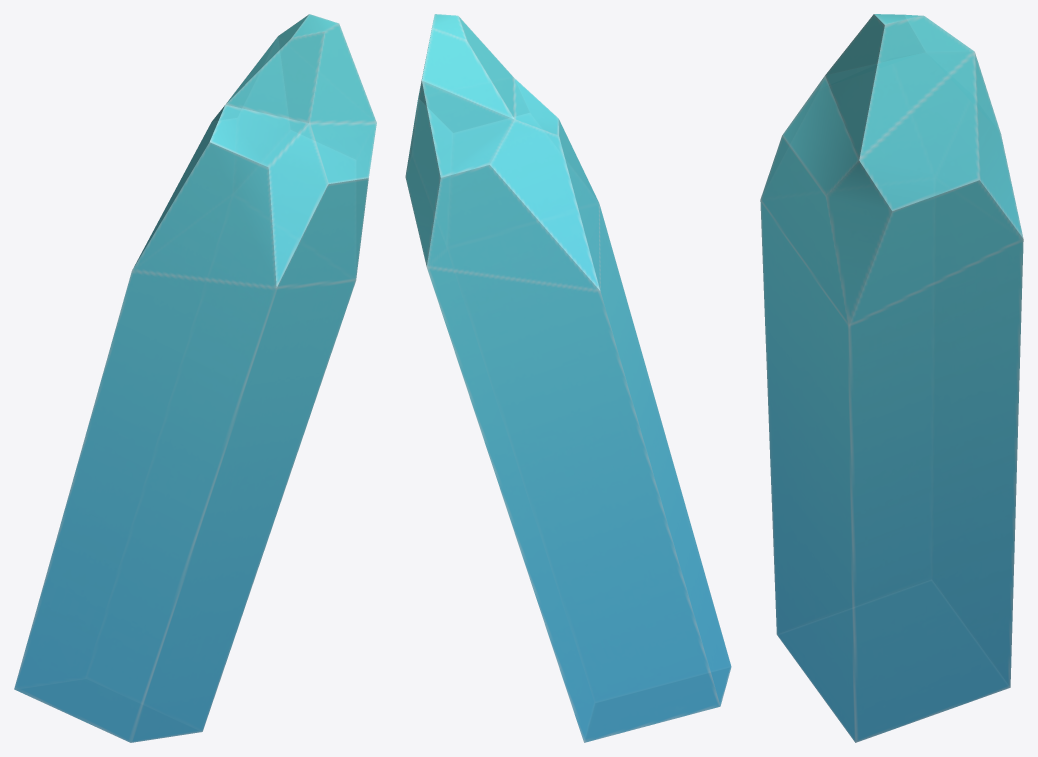
Rendered from Crystal7.fbx.
3 views of the same model, side by side, from view 1: azimuth 30°, elevation 25°; view 2: azimuth 150°, elevation 25°; view 3: azimuth 270°, elevation 25° (orthographic). The views are drawn at different scales.
Parts seen in each view (by area): view 1: Crystal_7; view 2: Crystal_7; view 3: Crystal_7.
Boxes of the visible parts, bbox=[...] form: Crystal_7: bbox=[14, 14, 376, 742]; Crystal_7: bbox=[405, 14, 731, 742]; Crystal_7: bbox=[760, 14, 1023, 742].
Size of the model in its own units: 1.95 by 3.72 by 1.1.
